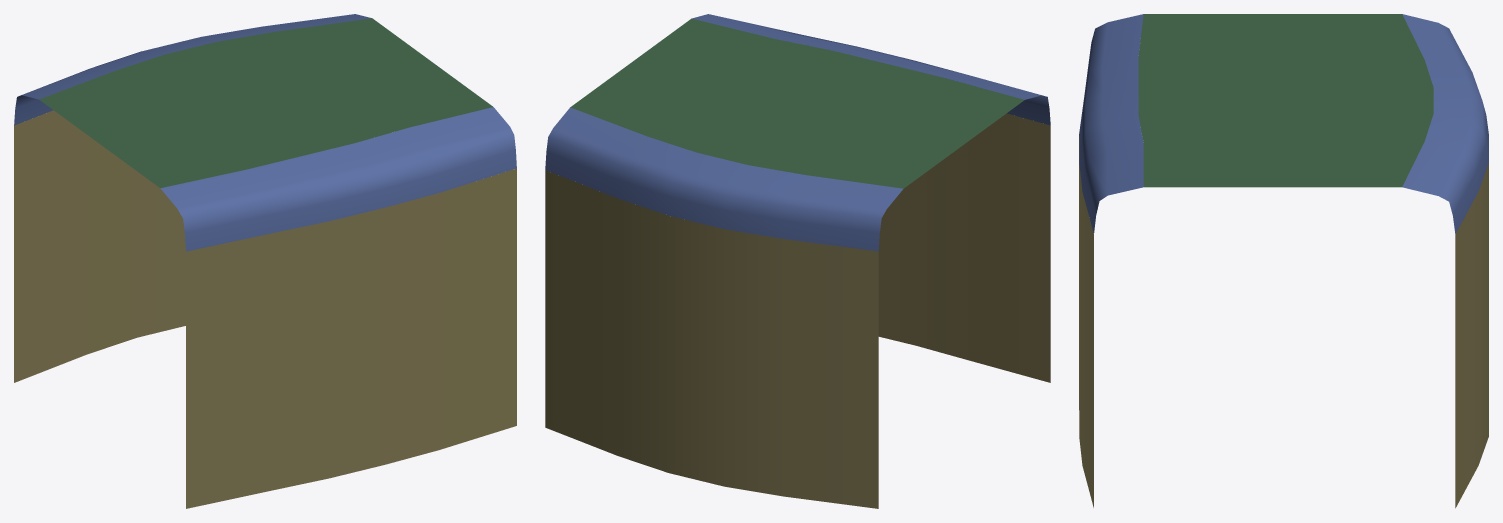
The model's file is Primera_plat.fbx.
The picture shows the model from 3 angles, left to right: view 1: azimuth 30°, elevation 25°; view 2: azimuth 150°, elevation 25°; view 3: azimuth 270°, elevation 25°; orthographic projection. The views are drawn at different scales.
Parts seen in each view (by area): view 1: Primera_plat, Ground2, Wall2; view 2: Primera_plat, Ground2, Wall2; view 3: Ground2, Wall2, Primera_plat.
Boxes of the visible parts, x1,y1,x2,y2 form: Primera_plat: [14, 110, 516, 508]; Ground2: [39, 18, 492, 188]; Wall2: [14, 14, 516, 251]; Primera_plat: [545, 113, 1050, 508]; Ground2: [570, 18, 1024, 188]; Wall2: [545, 14, 1050, 251]; Ground2: [1138, 14, 1433, 187]; Wall2: [1079, 14, 1488, 233]; Primera_plat: [1079, 136, 1488, 508].
Size of the model in its own units: 5811 by 5028 by 5804.
